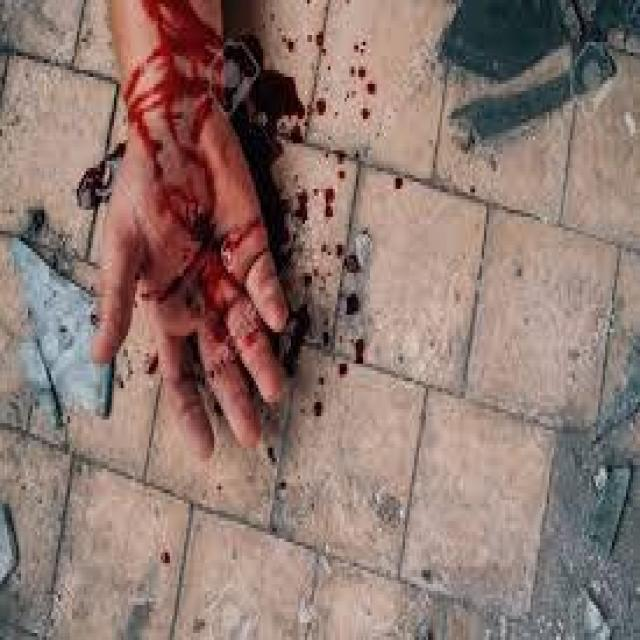flood: (105, 3, 372, 428)
